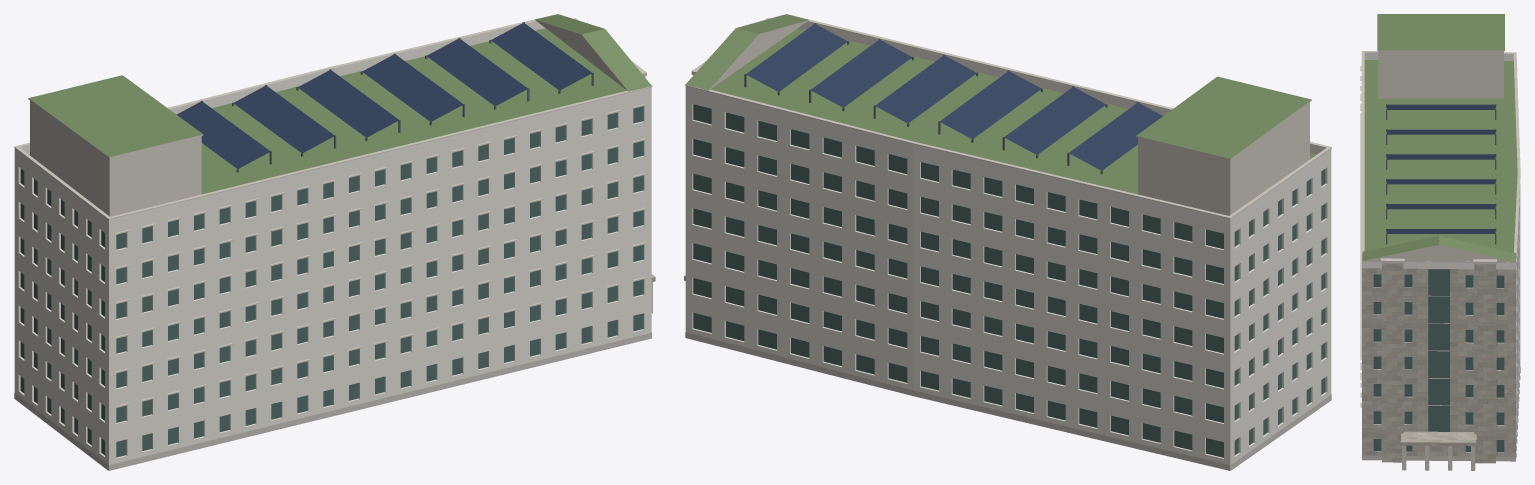
3 renders of one model, left to right at view 1: azimuth 30°, elevation 25°; view 2: azimuth 150°, elevation 25°; view 3: azimuth 270°, elevation 25°, orthographic. The views are drawn at different scales.
Visible parts, largest first — view 1: international__wall, international__glass, international__roof, international__trim, international__pv, international__parapet, international__base; view 2: international__wall, international__glass, international__roof, international__pv, international__trim, international__parapet, international__base, international__frame; view 3: international__roof, international__wall2, international__trim, international__glass, international__pv, international__parapet, international__wall, international__base, international__column, international__frame.
Boxes of the visible parts, x1,y1,x2,y2 form: international__wall: (14, 96, 651, 470); international__glass: (20, 106, 643, 457); international__roof: (28, 14, 651, 194); international__trim: (14, 14, 652, 407); international__pv: (176, 22, 592, 168); international__parapet: (14, 21, 651, 228); international__base: (14, 332, 651, 470); international__wall: (685, 94, 1331, 470); international__glass: (693, 104, 1325, 457); international__roof: (685, 14, 1316, 194); international__pv: (746, 24, 1162, 170); international__trim: (685, 14, 1331, 218); international__parapet: (685, 21, 1331, 227); international__base: (685, 332, 1331, 470); international__frame: (702, 23, 1215, 455); international__roof: (1362, 14, 1517, 261); international__wall2: (1362, 263, 1515, 463); international__trim: (1360, 50, 1520, 407); international__glass: (1373, 269, 1504, 452); international__pv: (1386, 104, 1495, 233); international__parapet: (1362, 52, 1517, 269); international__wall: (1516, 185, 1520, 457); international__base: (1362, 367, 1520, 461); international__column: (1402, 445, 1475, 470); international__frame: (1386, 104, 1496, 404).
Bounding box in the file's own units: 62.37 × 31.6 × 19.1.
11 materials, 1 textured.
